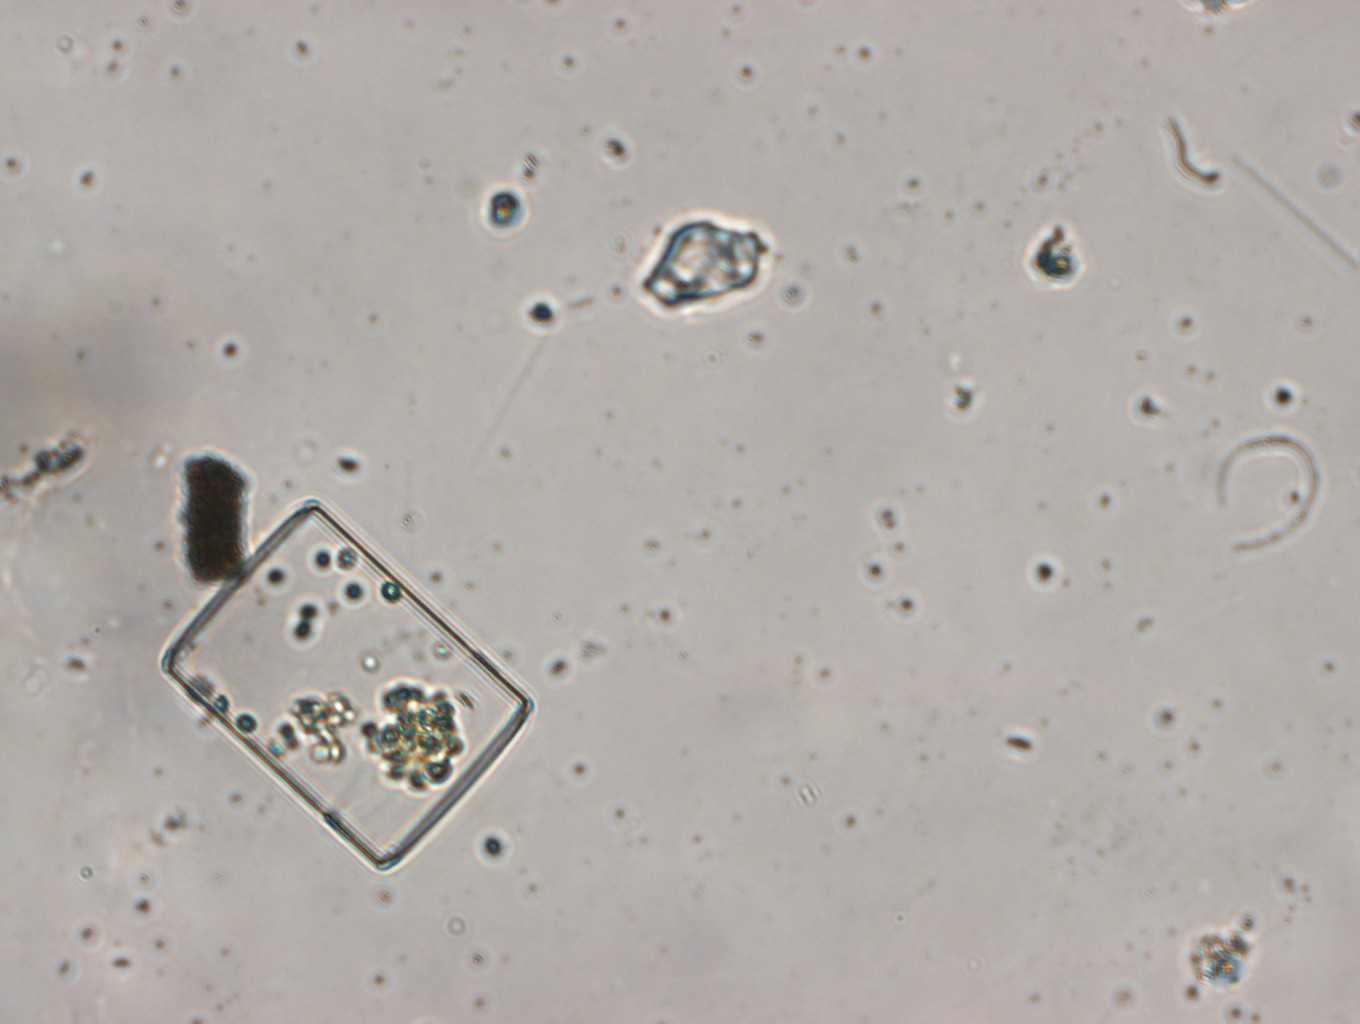guinardia flaccida: (151, 496, 536, 874)
